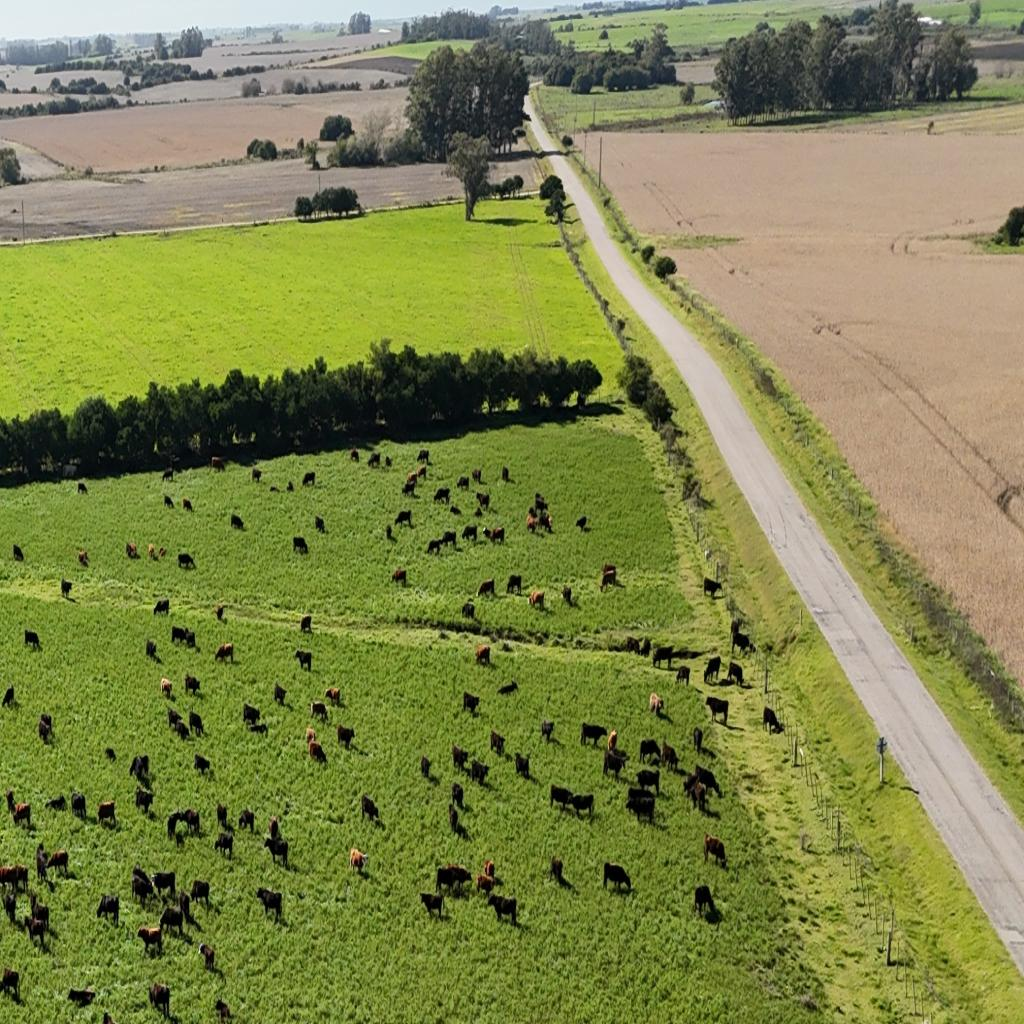cow: (436, 862, 472, 896), (626, 792, 655, 826), (136, 923, 164, 958), (256, 887, 283, 922), (488, 893, 516, 926), (23, 917, 48, 953), (603, 861, 630, 894), (694, 764, 720, 797), (159, 904, 184, 938), (149, 982, 171, 1020), (150, 869, 176, 901), (693, 884, 716, 920), (703, 832, 726, 868), (28, 893, 51, 927), (568, 792, 594, 822), (264, 837, 289, 868), (96, 893, 120, 924), (131, 872, 152, 906), (603, 750, 626, 780), (0, 967, 20, 1001), (580, 722, 606, 748), (638, 738, 662, 766), (635, 768, 659, 796), (420, 892, 444, 920), (47, 848, 70, 877), (550, 784, 573, 813), (705, 696, 728, 724), (190, 878, 210, 910), (128, 754, 150, 783), (688, 781, 706, 814), (2, 888, 17, 926), (68, 986, 95, 1007), (214, 832, 234, 860), (731, 624, 749, 655), (97, 800, 116, 828), (763, 706, 782, 734), (652, 646, 674, 670), (470, 759, 489, 786), (661, 742, 678, 772), (704, 655, 721, 685), (178, 888, 192, 924), (166, 812, 184, 840), (136, 788, 154, 816), (362, 794, 380, 822), (702, 576, 722, 601), (349, 847, 368, 873), (12, 863, 28, 893), (184, 808, 201, 836), (13, 802, 30, 830), (452, 744, 469, 772), (242, 702, 261, 727), (199, 943, 215, 972), (476, 872, 495, 896), (214, 999, 232, 1024), (514, 752, 530, 780), (70, 792, 86, 820), (36, 846, 48, 883), (727, 661, 744, 687), (308, 701, 328, 723), (214, 641, 234, 663), (490, 729, 506, 756), (337, 725, 355, 749), (238, 809, 255, 834), (683, 770, 699, 796), (462, 691, 480, 714), (308, 740, 325, 764), (601, 564, 617, 589), (171, 625, 190, 646), (294, 650, 312, 672), (549, 856, 563, 884), (38, 714, 52, 742), (451, 781, 464, 811), (189, 711, 204, 737), (394, 509, 413, 528), (167, 706, 182, 730), (476, 578, 494, 598), (448, 802, 459, 834), (184, 672, 200, 694), (194, 754, 210, 776), (44, 795, 66, 811), (626, 636, 643, 656), (216, 802, 228, 830), (506, 574, 522, 595), (649, 692, 663, 716), (528, 588, 544, 609), (0, 863, 11, 893), (541, 718, 554, 743), (152, 598, 170, 616), (439, 860, 457, 878), (24, 630, 40, 650), (489, 525, 505, 545), (293, 536, 308, 556), (176, 720, 190, 741), (676, 666, 690, 687), (178, 553, 195, 570), (420, 755, 432, 779), (274, 682, 286, 706), (442, 530, 458, 548), (433, 487, 449, 505), (540, 512, 553, 534), (325, 686, 340, 705), (692, 726, 702, 754), (298, 614, 312, 634), (534, 492, 548, 512), (476, 644, 490, 664), (498, 681, 518, 695), (462, 525, 477, 543), (475, 492, 490, 510), (249, 720, 267, 735), (461, 602, 475, 621), (2, 685, 14, 707), (607, 729, 618, 753), (6, 789, 16, 815), (184, 630, 197, 650), (427, 539, 442, 556), (402, 480, 416, 498), (269, 815, 279, 840), (526, 512, 537, 534), (483, 860, 495, 880), (145, 639, 157, 659), (160, 676, 172, 696), (392, 568, 406, 585), (640, 637, 651, 658), (230, 514, 244, 530), (405, 471, 418, 488), (562, 584, 572, 606), (730, 619, 741, 639), (60, 579, 72, 597), (210, 456, 224, 471), (305, 727, 316, 746), (367, 452, 380, 468), (302, 471, 315, 487), (77, 550, 89, 567), (102, 1010, 116, 1024), (454, 856, 466, 872), (13, 545, 24, 562), (162, 468, 174, 483), (126, 542, 137, 558), (576, 515, 587, 531), (214, 604, 224, 621), (314, 516, 324, 533), (457, 476, 469, 490), (417, 450, 429, 464), (416, 465, 427, 480), (472, 468, 482, 484), (105, 747, 116, 761), (182, 498, 192, 512), (164, 495, 174, 509), (251, 468, 261, 482), (148, 543, 156, 560), (386, 524, 394, 541), (450, 504, 461, 516), (78, 481, 88, 494), (502, 466, 510, 482), (350, 449, 359, 462), (600, 579, 607, 593), (158, 547, 166, 559), (474, 506, 482, 518), (286, 481, 294, 492), (385, 456, 392, 468), (270, 486, 279, 492)
